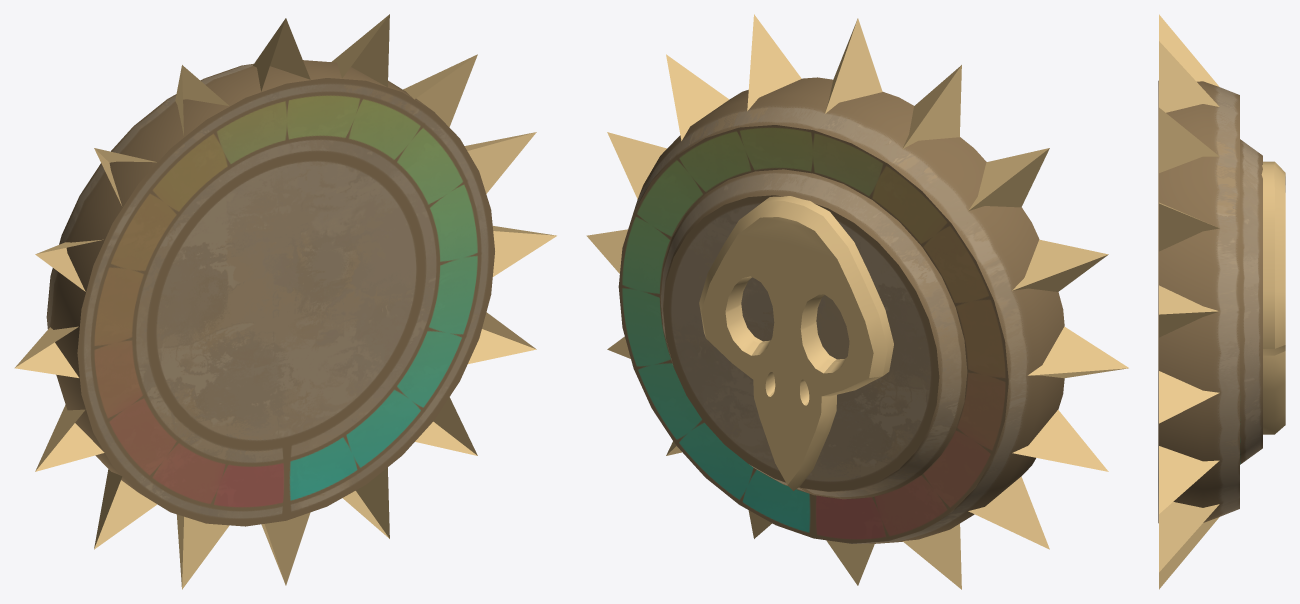
Rendered from MayanTimerB.fbx.
3 views of the same model, side by side, from view 1: azimuth 30°, elevation 25°; view 2: azimuth 150°, elevation 25°; view 3: azimuth 270°, elevation 25° (orthographic). The views are drawn at different scales.
Visible parts, largest first — view 1: Circle, Cube; view 2: Circle, Cube.009, Cube; view 3: Circle, Cube, Cube.009.
Boxes of the visible parts, x1,y1,x2,y2 form: Circle: [46, 60, 494, 526]; Cube: [14, 14, 556, 589]; Circle: [618, 77, 1064, 543]; Cube.009: [699, 196, 893, 490]; Cube: [586, 14, 1128, 589]; Circle: [1158, 80, 1262, 523]; Cube: [1159, 14, 1219, 589]; Cube.009: [1261, 161, 1285, 434].
Bounding box in the file's own units: 2047 × 2047 × 452.
Materials: 2 (1 with a texture image).
